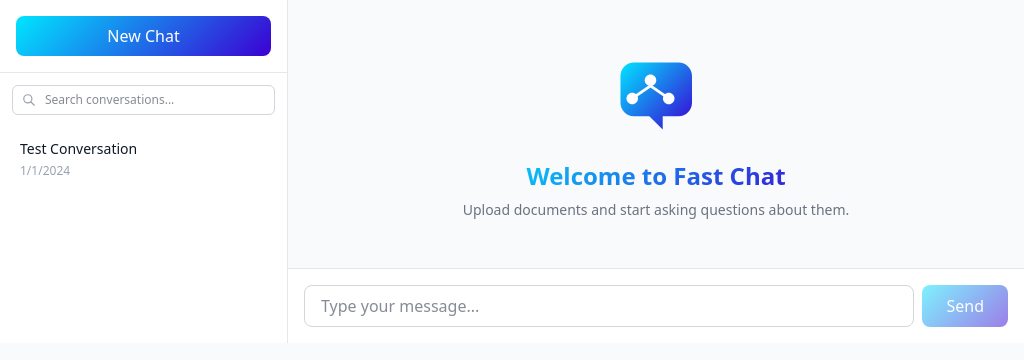
it: ChatPage › loads conversation messages when conversation is selected
Click the heading "Test Conversation" at (79, 148), box 20,139 -> 137,158
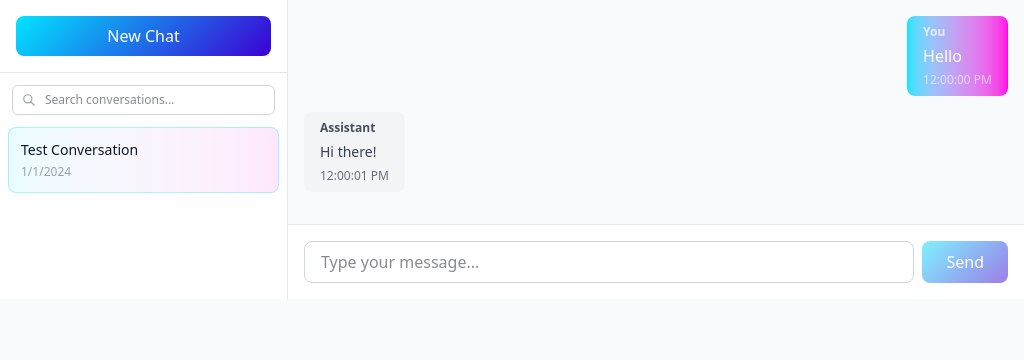
Check: the text "Hello" is shown, box 923,45 -> 962,67
Check: the text "Hi there!" is shown, box 320,142 -> 376,161
